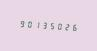five: (49, 20, 56, 31)
nine: (17, 17, 24, 29)
one: (33, 18, 40, 30)
six: (73, 21, 80, 33)
three: (41, 19, 48, 30)
two: (65, 21, 72, 32)
zero: (57, 20, 64, 32), (25, 18, 32, 29)
